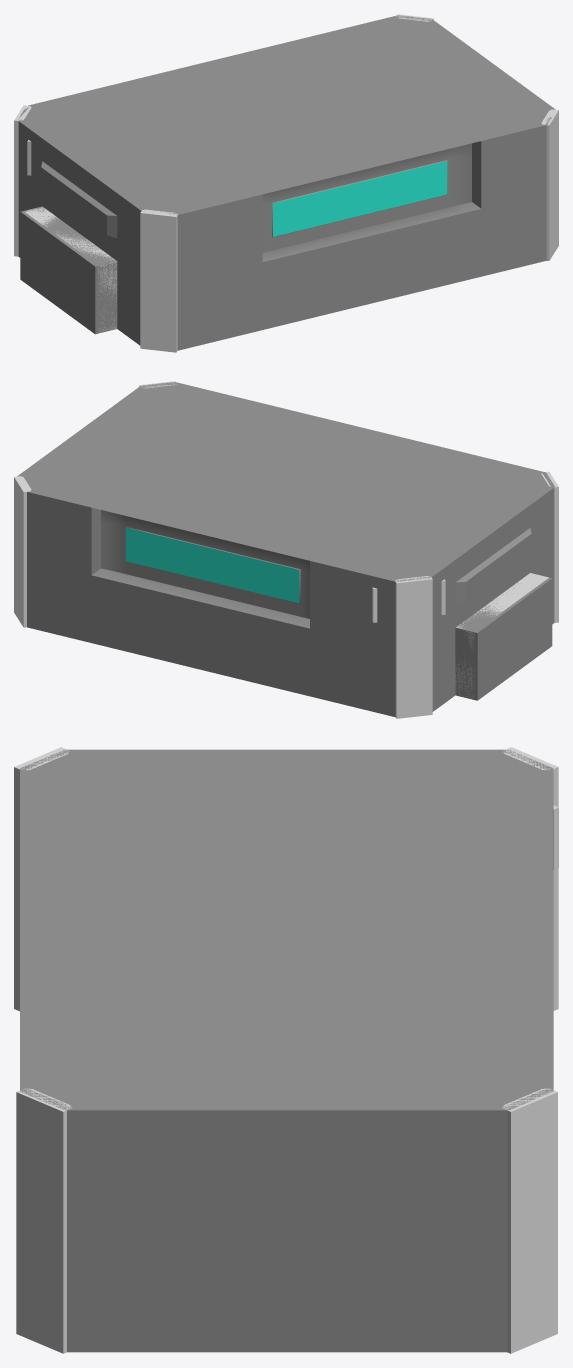
Rendered from building.FBX.
3 renders of one model, top to bottom at view 1: azimuth 30°, elevation 25°; view 2: azimuth 150°, elevation 25°; view 3: azimuth 270°, elevation 25°, orthographic. The views are drawn at different scales.
Parts seen in each view (by area): view 1: Box010, Box014, Box015, Box011, Box017; view 2: Box010, Box017, Box016, Box011, Box014; view 3: Box010, Box016, Box015, Box014, Box017.
Part boxes in pixels (x1,y1,x2,y2): Box010: [18, 15, 555, 350]; Box014: [140, 209, 177, 352]; Box015: [541, 109, 558, 260]; Box011: [25, 207, 117, 333]; Box017: [14, 105, 31, 256]; Box010: [17, 382, 554, 717]; Box017: [395, 576, 432, 718]; Box016: [14, 476, 31, 627]; Box011: [455, 573, 548, 698]; Box014: [541, 471, 558, 622]; Box010: [20, 749, 553, 1352]; Box016: [502, 1088, 557, 1353]; Box015: [16, 1088, 71, 1353]; Box014: [14, 747, 69, 1011]; Box017: [503, 747, 558, 1010].
Size of the model in its own units: 40.59 by 12 by 24.5.
